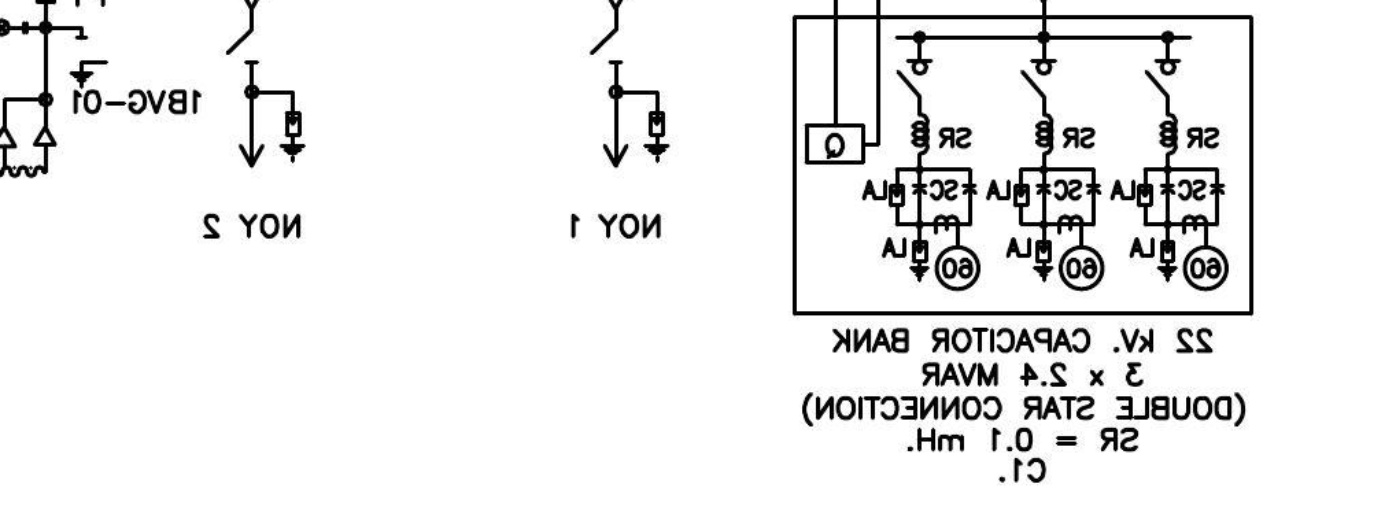22_cap_bank: (791, 14, 1255, 317)
22_ds_la_out: (589, 29, 671, 169), (224, 29, 306, 169)
22_gs: (68, 35, 109, 90)
Q: (804, 123, 866, 166)
